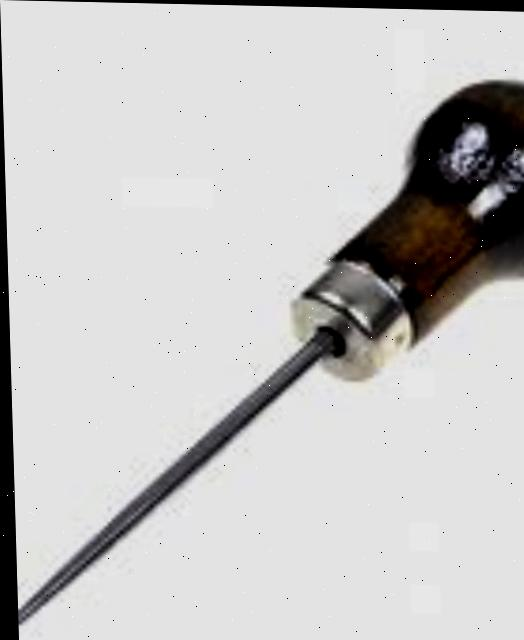ice pick: (1, 58, 524, 640)
